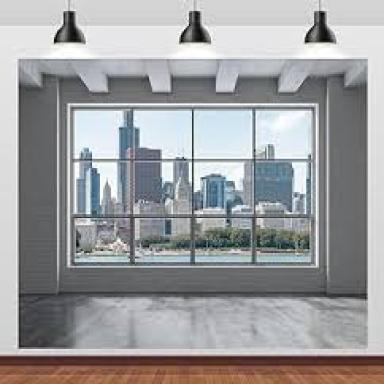glass_panel: (70, 107, 132, 214), (132, 109, 192, 214), (72, 109, 130, 159), (255, 161, 311, 212), (135, 161, 190, 212), (256, 109, 312, 159), (134, 109, 190, 159), (75, 161, 127, 214), (195, 162, 249, 212), (195, 109, 252, 155), (135, 218, 192, 258), (255, 220, 311, 260), (76, 219, 129, 256), (196, 224, 250, 258)
